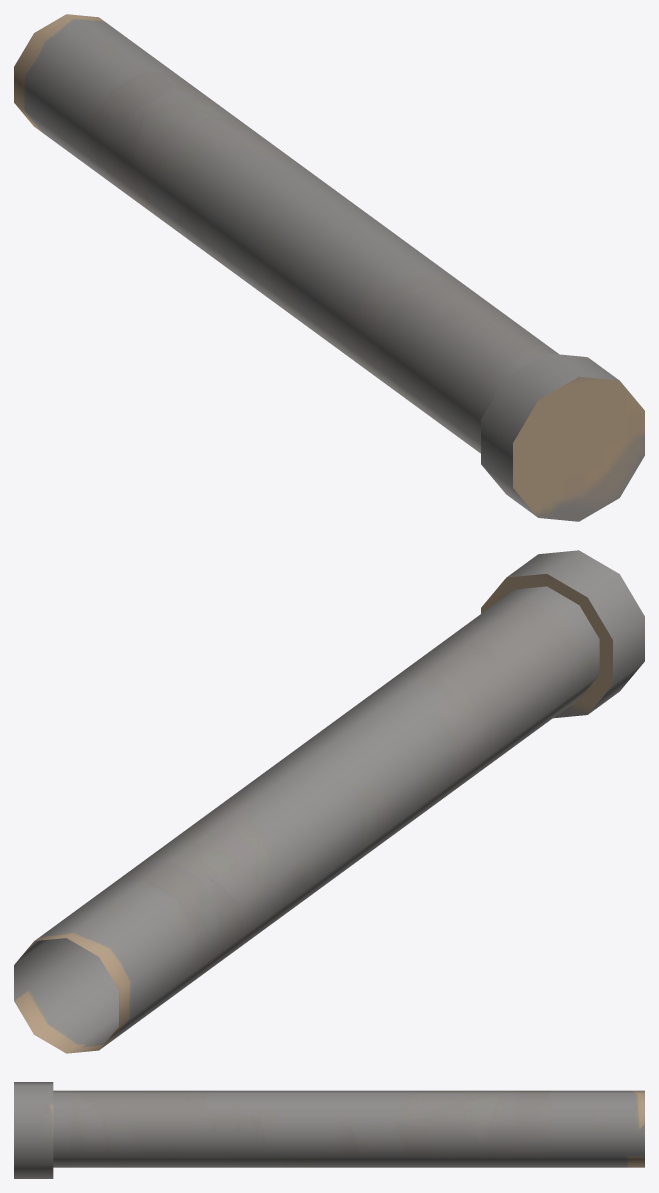
File: props_mining_ceiling_pipe_64_thick.glb
The picture shows the model from 3 angles, top to bottom: view 1: azimuth 30°, elevation 25°; view 2: azimuth 150°, elevation 25°; view 3: azimuth 270°, elevation 25°; orthographic projection. The views are drawn at different scales.
Parts seen in each view (by area): view 1: models/props_mining/ceiling_pipe_64_thick; view 2: models/props_mining/ceiling_pipe_64_thick; view 3: models/props_mining/ceiling_pipe_64_thick.
Boxes of the visible parts, <box> form: models/props_mining/ceiling_pipe_64_thick: <box>14,14,644,521</box>; models/props_mining/ceiling_pipe_64_thick: <box>14,550,644,1053</box>; models/props_mining/ceiling_pipe_64_thick: <box>14,1082,644,1178</box>.
Size of the model in its own units: 9.51 by 10 by 64.
1 material, 1 textured.
